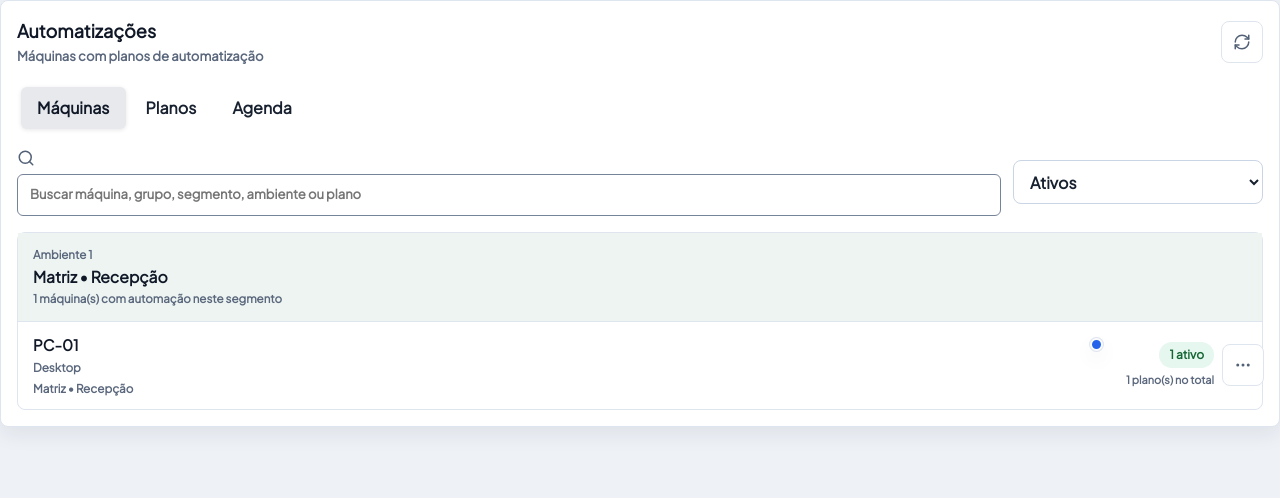
Scenario: AutomationManagementView - planos e agenda › navega para a aba de planos e filtra
The image size is (1280, 498).
Step 1. Click the tab "Planos" → coordinates (171, 108), box [130,86,212,128]
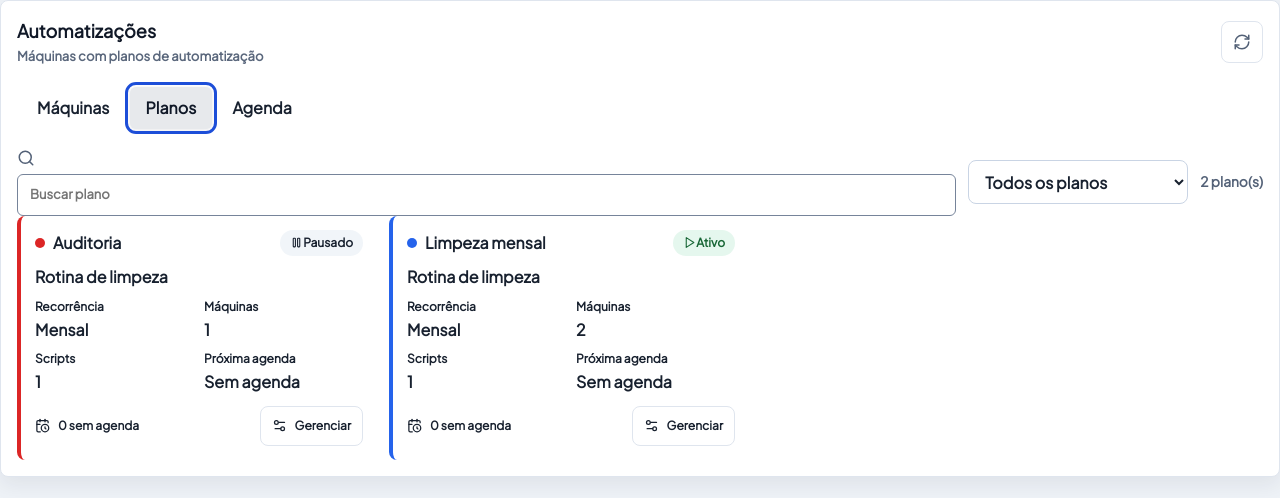
Check: the field with placeholder "Buscar máquina, grupo, segmento, ambiente ou plano" is not shown
Check: the text "2 plano(s)" is shown, box [1200,172,1263,192]
Step 2. Select "Pausados" in the dropdown named "Filtrar planos" → coordinates (1078, 182), box [968,160,1188,204]
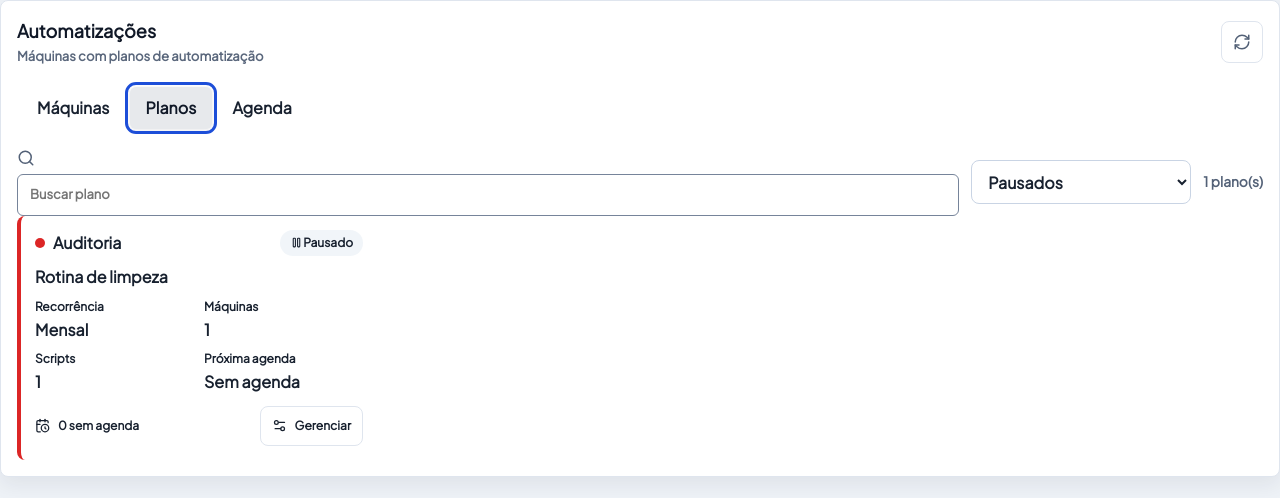
Check: the text "1 plano(s)" is shown, box [1203,172,1263,192]
Step 3. Type "zzz" into the field with placeholder "Buscar plano" → coordinates (488, 194), box [17,174,959,216]
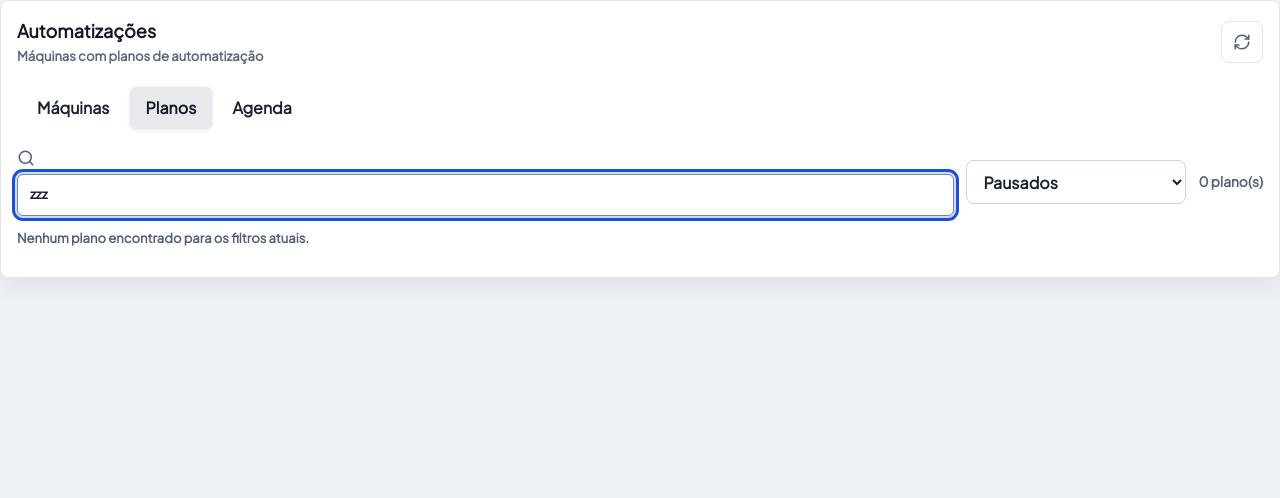
Check: the text "Nenhum plano encontrado para os filtros atuais." is shown, box [17,230,309,246]
